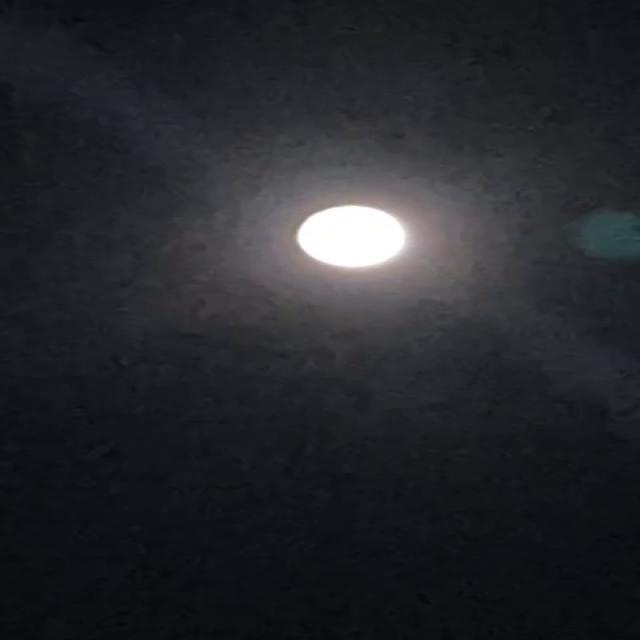moon: (290, 202, 416, 272)
